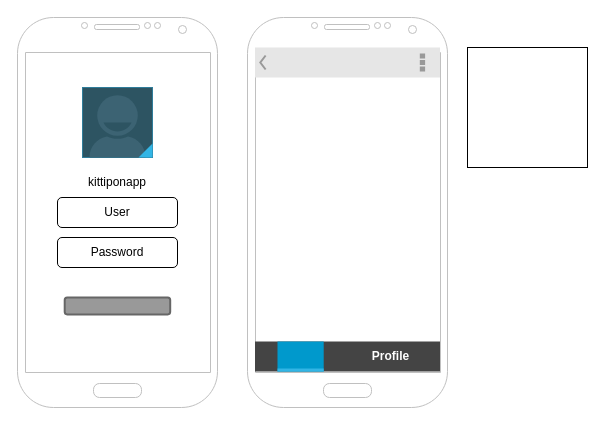
The diagram is 605 pixels wide and 425 high, and some of its shapes have lost their labels. The shapes that lost their labels are listed below. From the top down, each one's centre as x and y in pixels, then its label:
(117,305): Pressed
(300,356): Data
